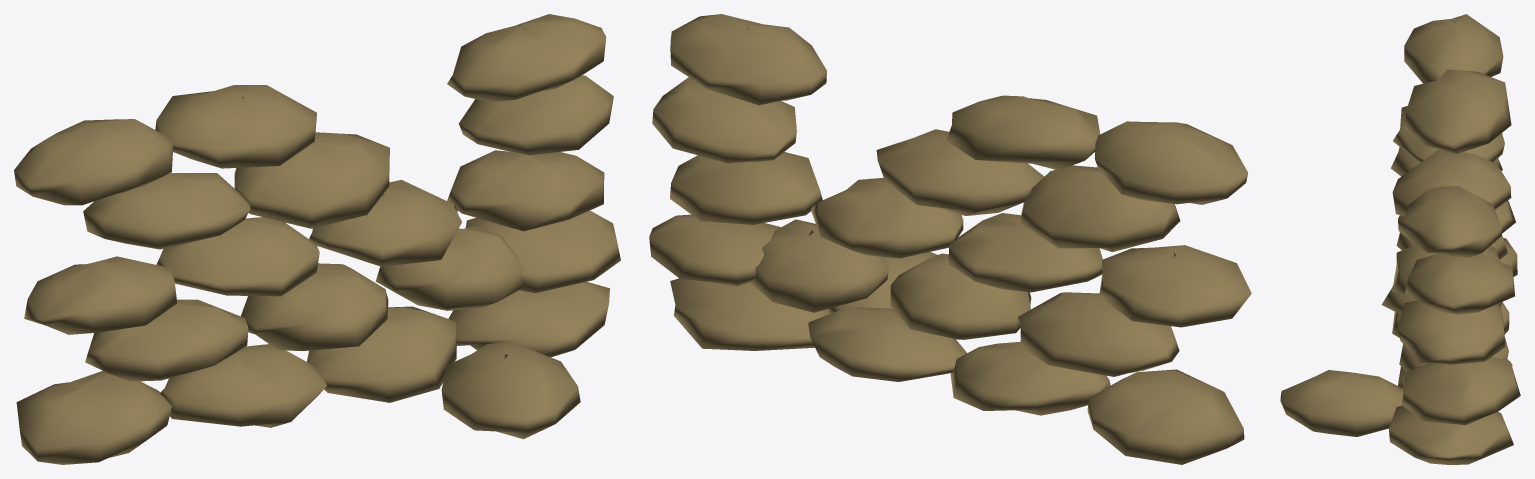
The model's file is sandbag_07.obj.
3 renders of one model, left to right at view 1: azimuth 30°, elevation 25°; view 2: azimuth 150°, elevation 25°; view 3: azimuth 270°, elevation 25°, orthographic. The views are drawn at different scales.
Parts seen in each view (by area): view 1: sandbag_07; view 2: sandbag_07; view 3: sandbag_07.
Boxes of the visible parts, box(x1,y1,x2,y2) form: sandbag_07: box(14, 14, 620, 464); sandbag_07: box(649, 14, 1251, 464); sandbag_07: box(1280, 14, 1520, 464).
Bounding box in the file's own units: 1.91 × 1.02 × 0.8245.
